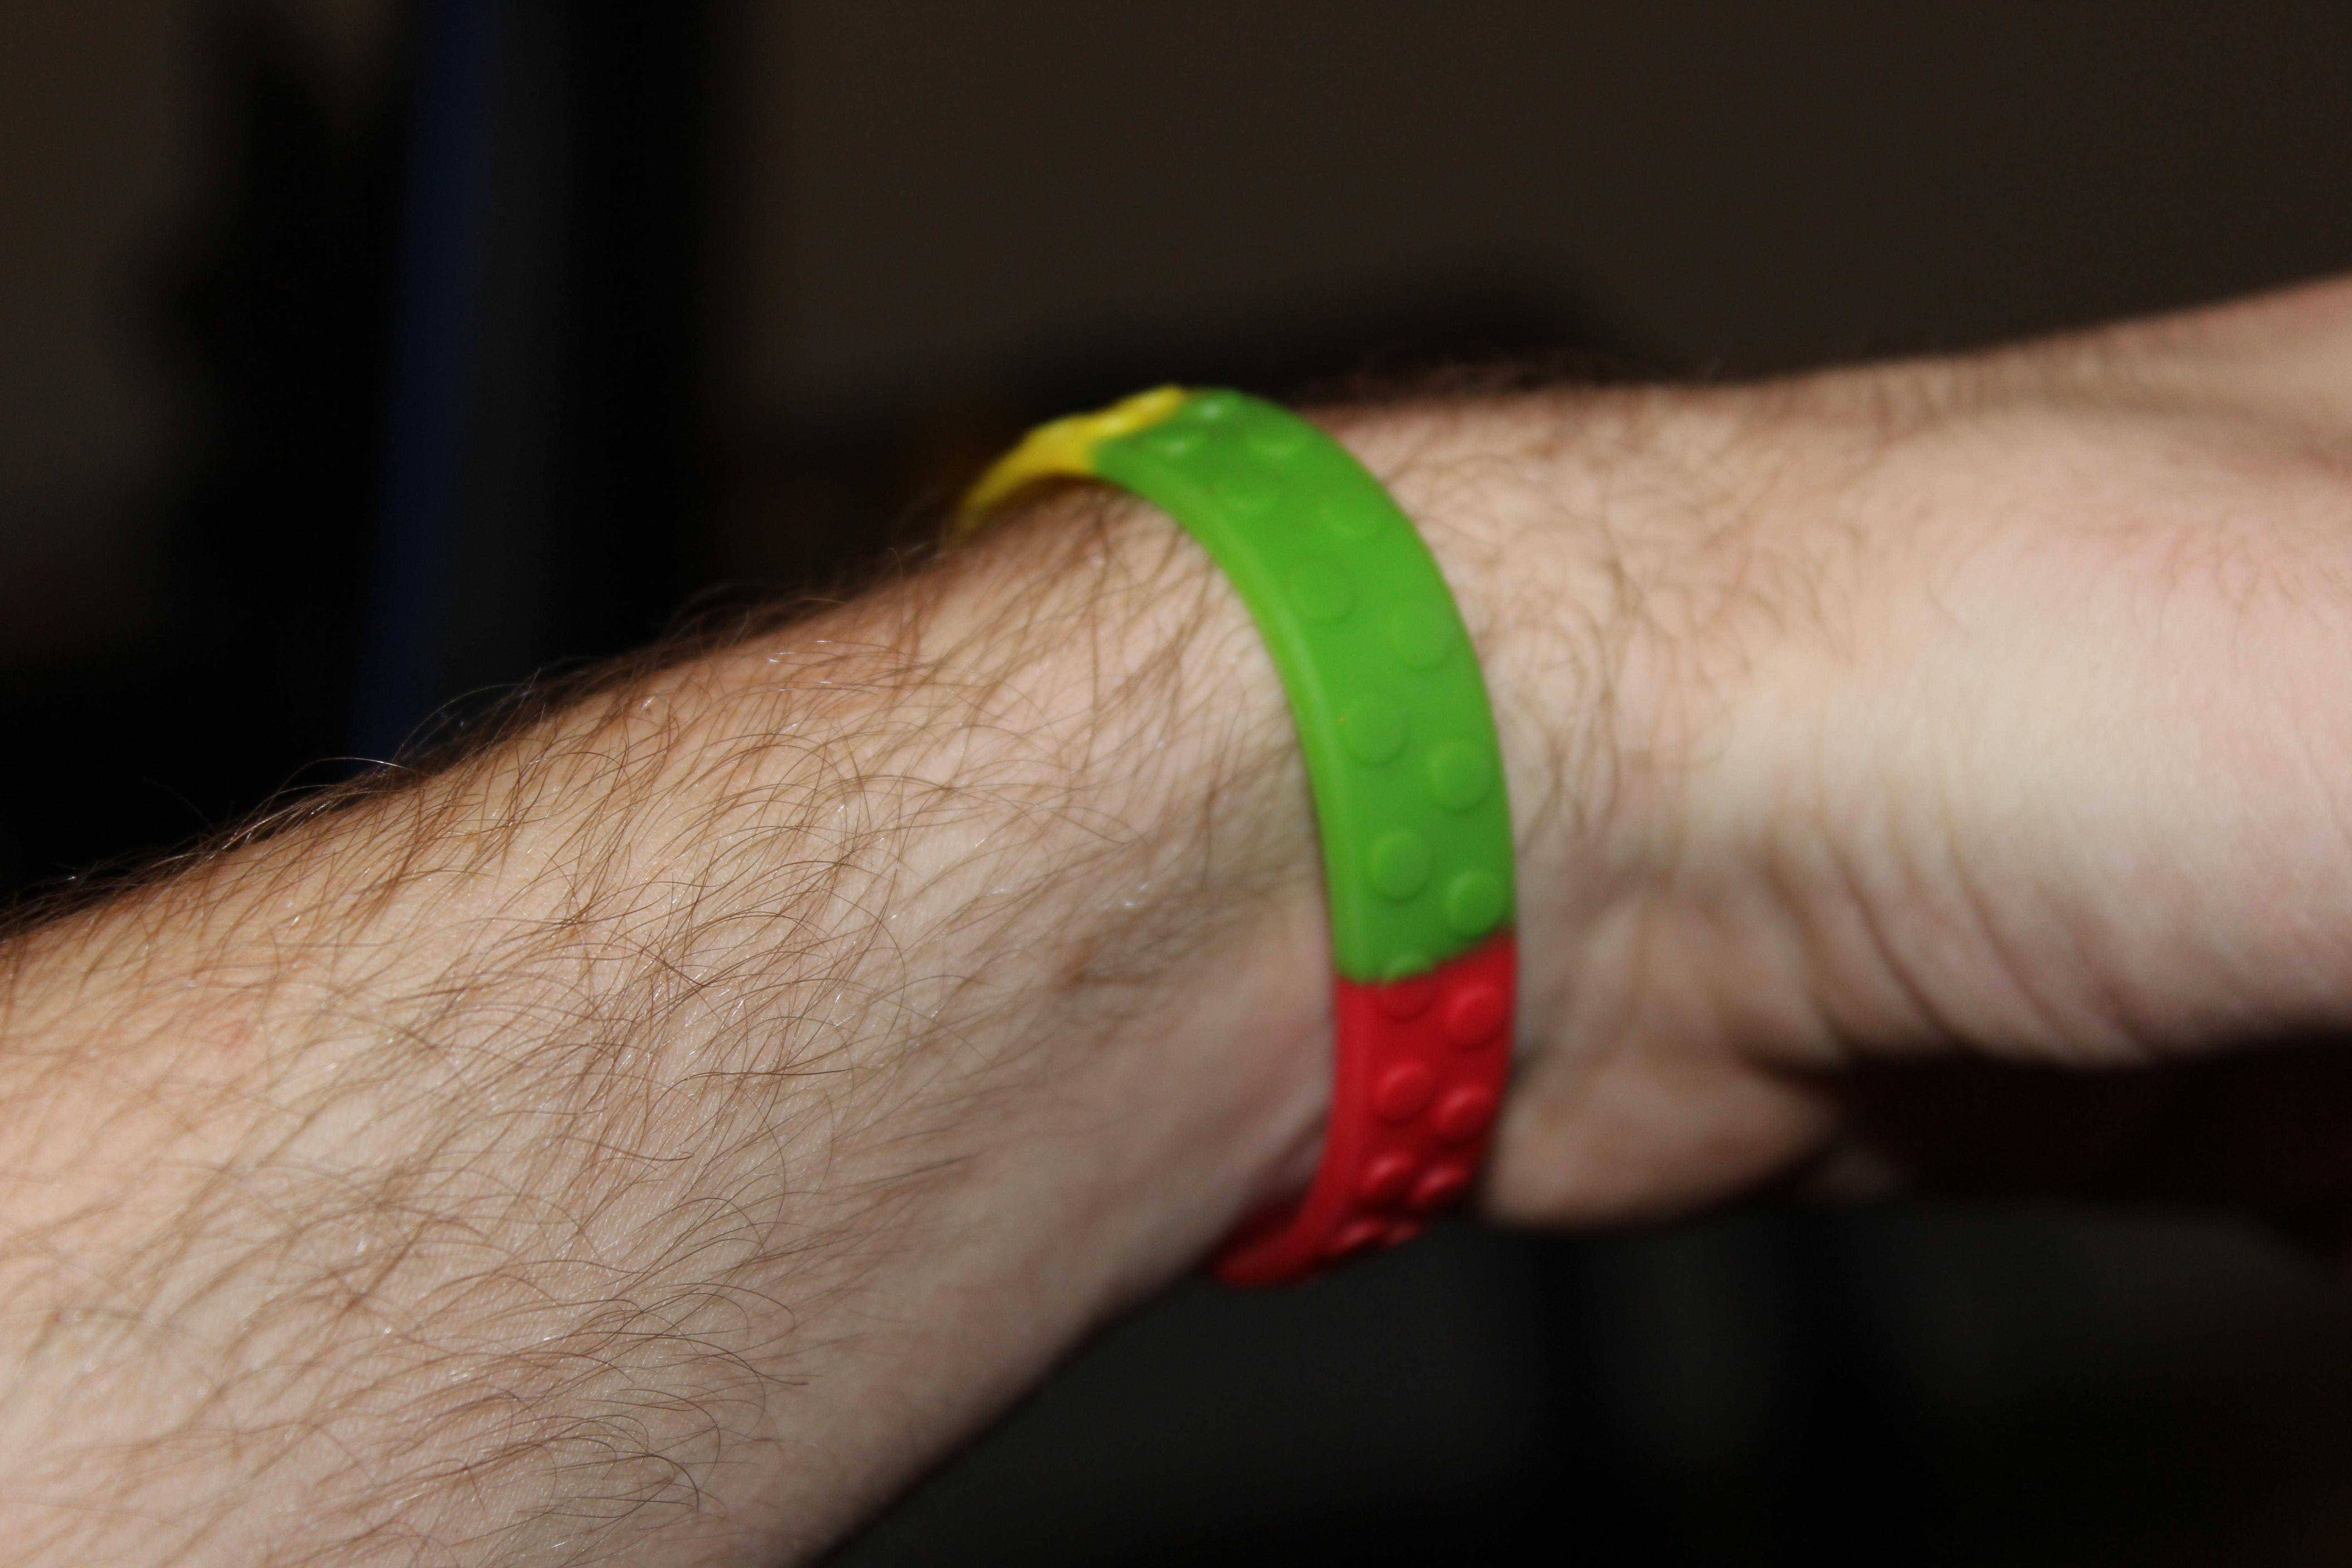legoBracelet: (884, 355, 1589, 1325)
